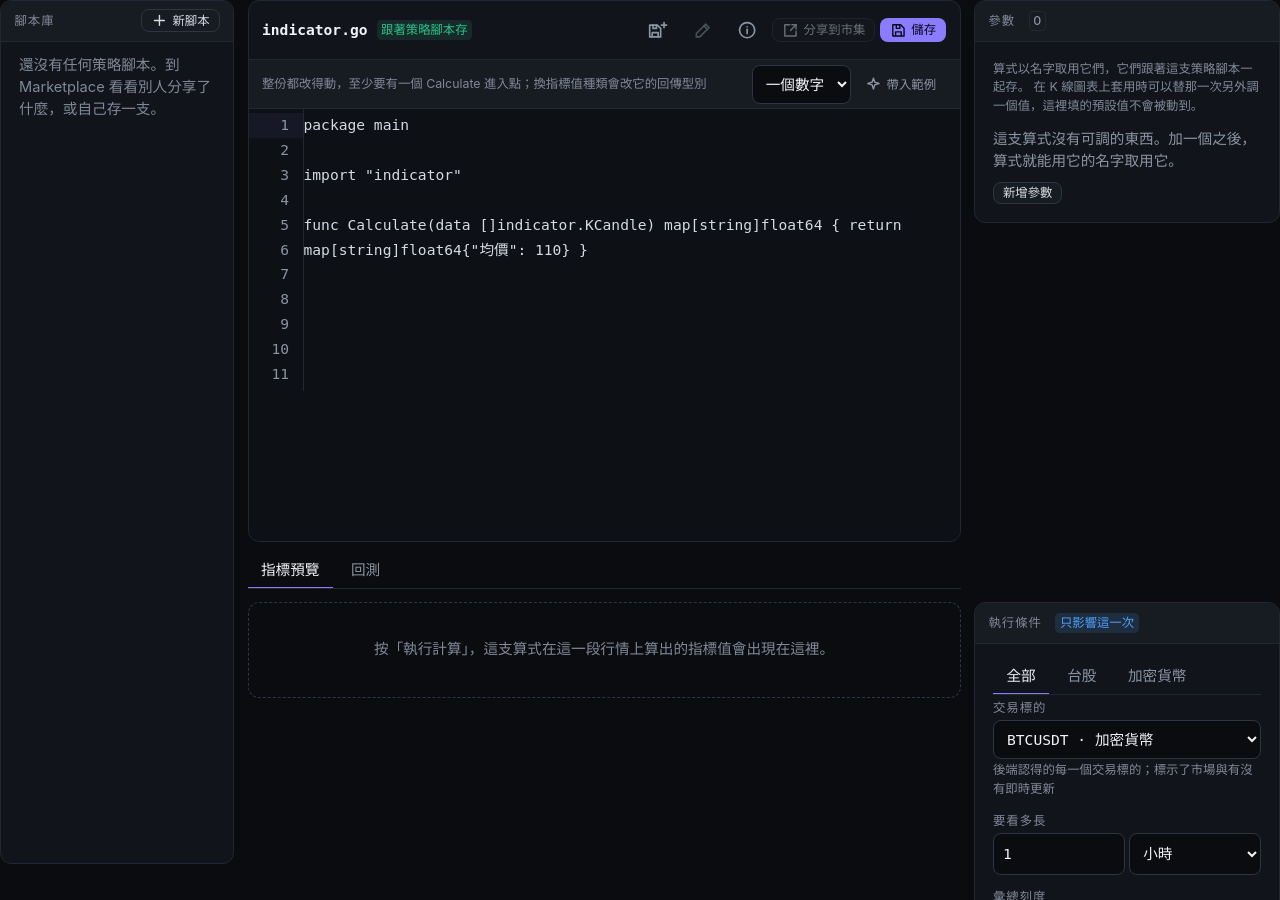
Scenario: IndicatorCalculationPanel › 算得出來時列出實際採用根數與依名稱排序的指標
Step 1. Clear the field with class "cm-content" → x=356, y=125, box [304,116,910,258]
(page scrolled)
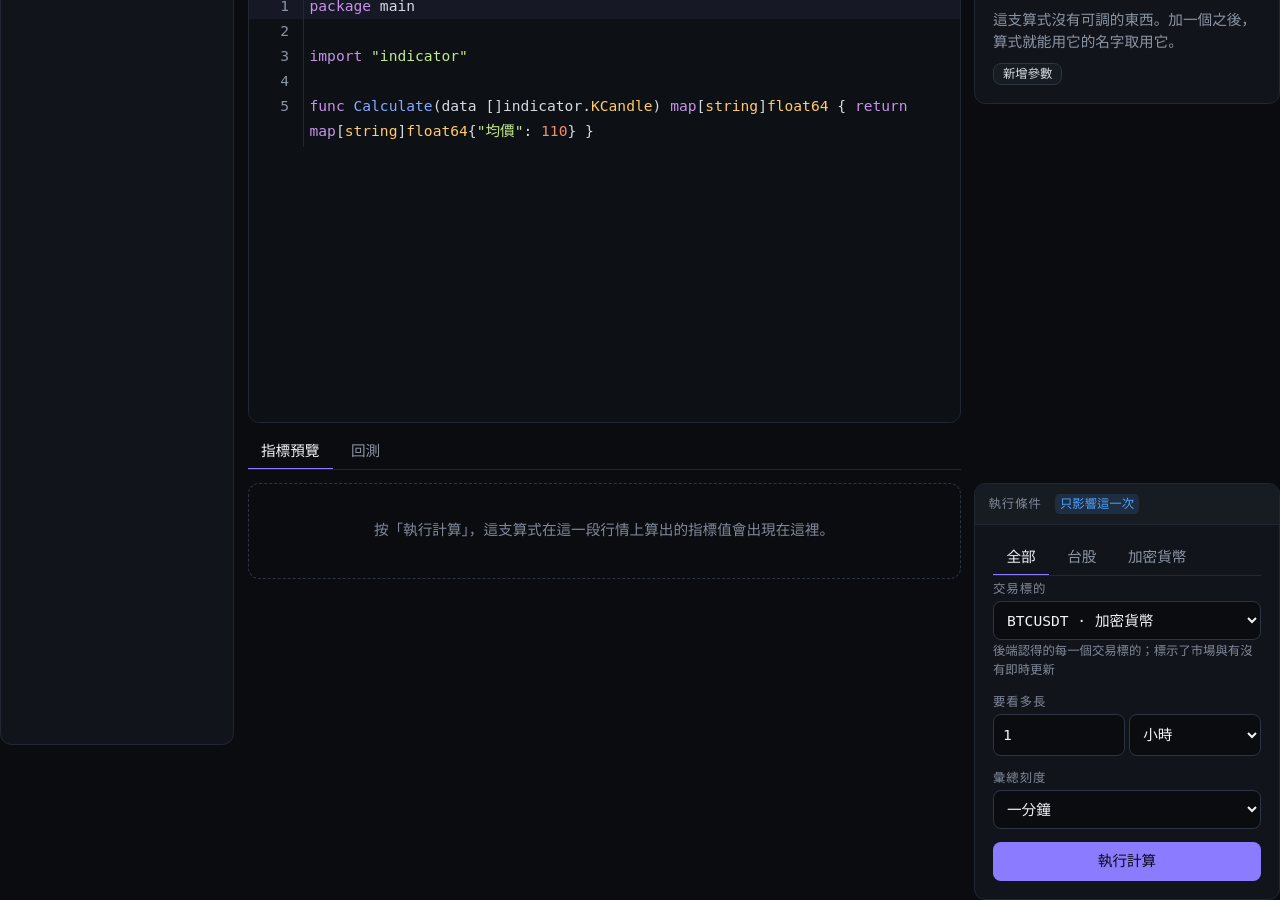
Step 2. Submit the form, box [248,483,1279,899]
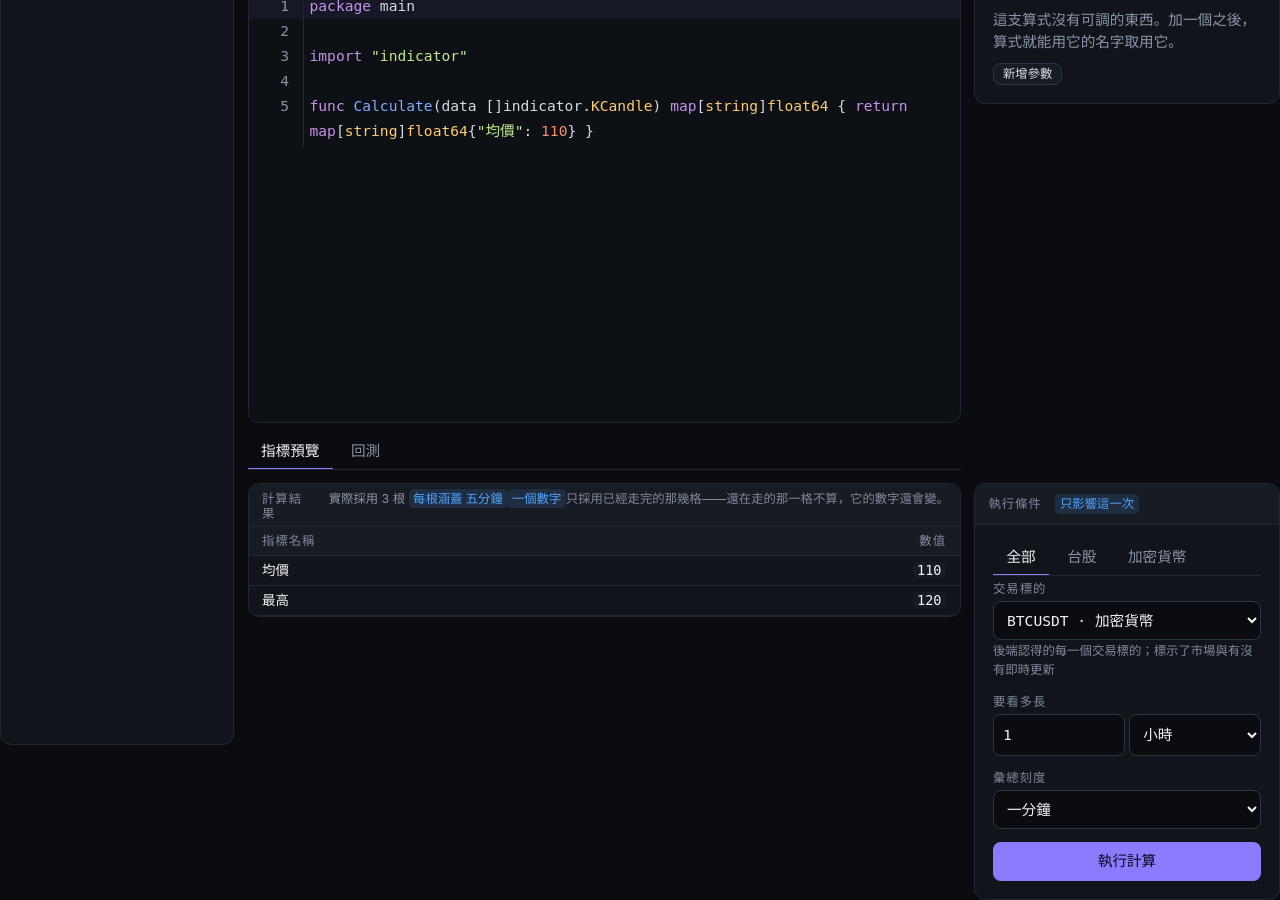
Expected: the element with test id "used-candle-count" shows "實際採用 3 根", [329,491,409,506]
Expected: the number of rows with test id "indicator-row" is 2, [248,556,960,586]; [248,586,960,616]
Expected: the row with test id "indicator-row" shows "均價", [262,562,289,578]
